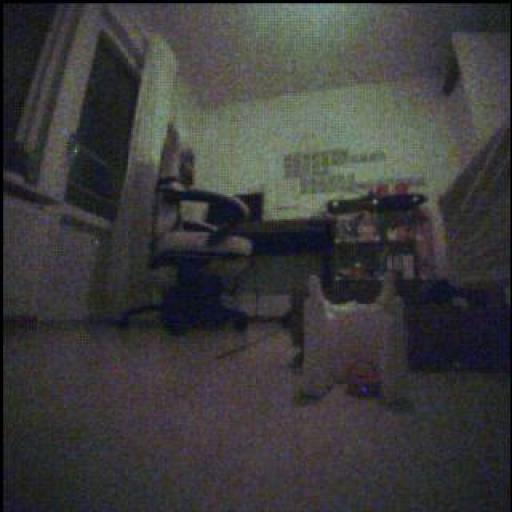basket: (348, 363, 382, 398)
